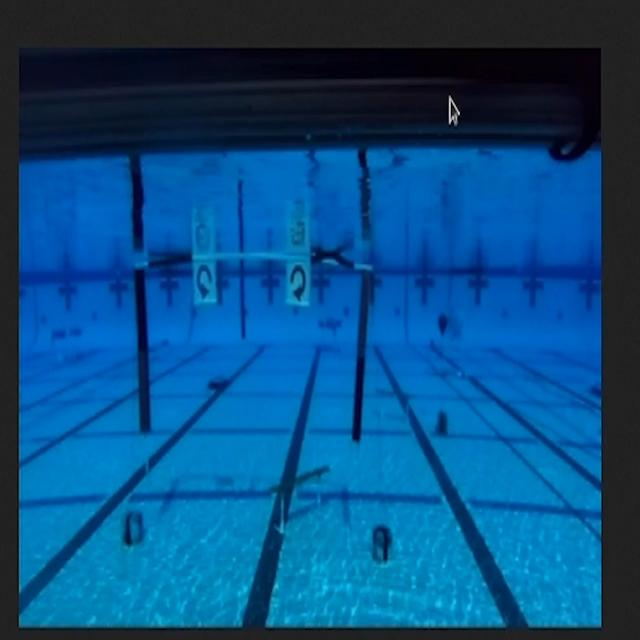Gate: (132, 250, 369, 441)
